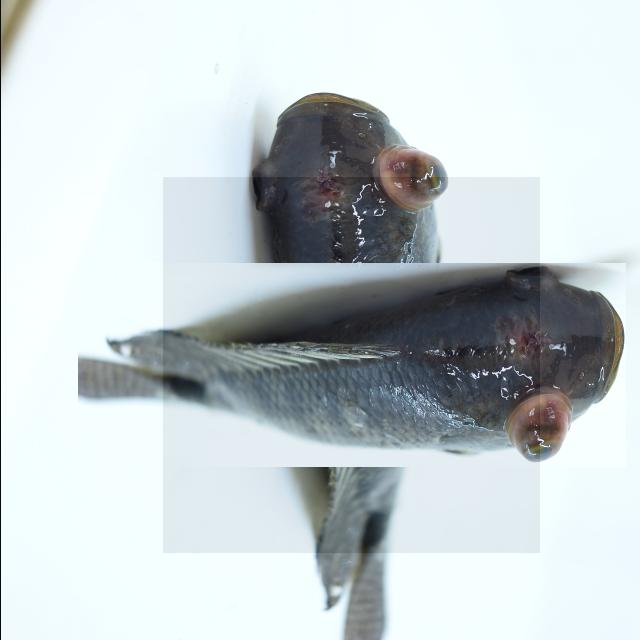streptococcus Disease: (162, 177, 539, 553)
